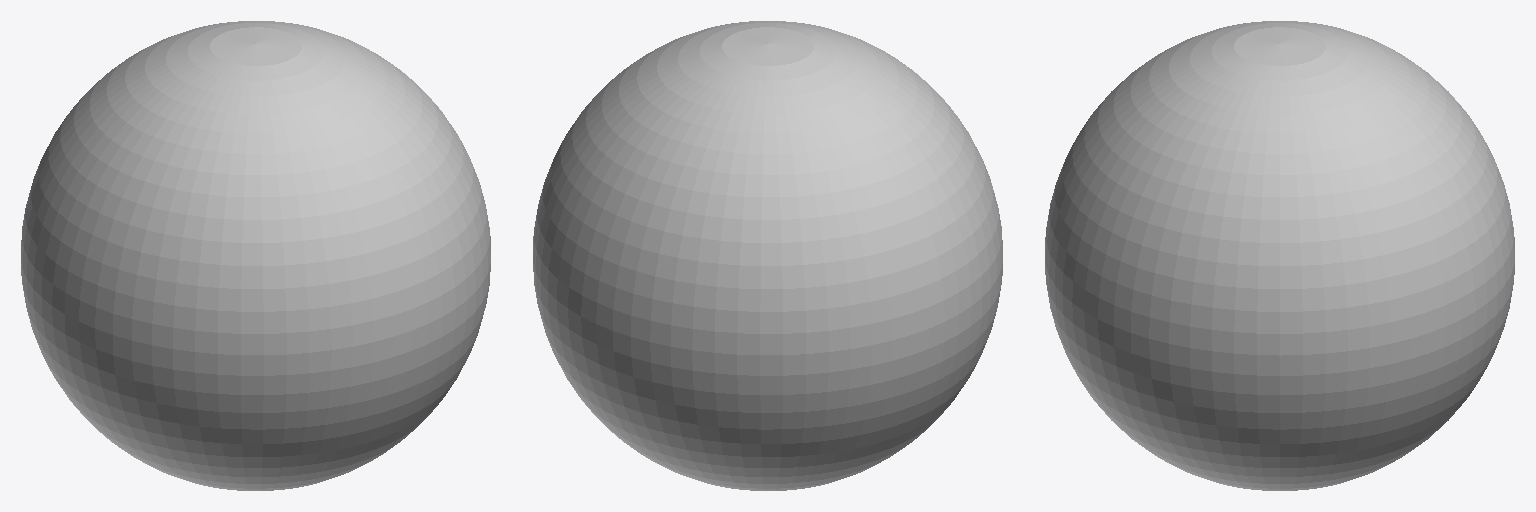
File: World2.obj
3 renders of one model, left to right at view 1: azimuth 30°, elevation 25°; view 2: azimuth 150°, elevation 25°; view 3: azimuth 270°, elevation 25°, orthographic.
Visible parts, largest first — view 1: Sphere; view 2: Sphere; view 3: Sphere.
Part boxes in pixels (x1,y1,x2,y2): Sphere: (21, 21, 490, 490); Sphere: (533, 21, 1002, 490); Sphere: (1045, 21, 1514, 490).
Bounding box in the file's own units: 2 × 1.99 × 2.